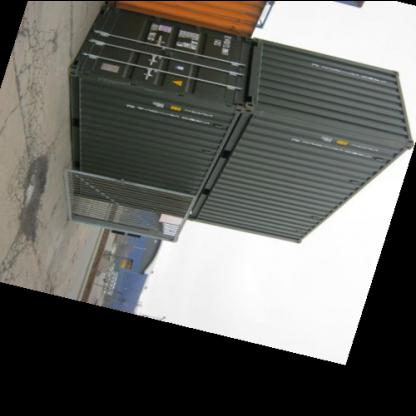Damage: (97, 74, 167, 96), (258, 102, 304, 124)
